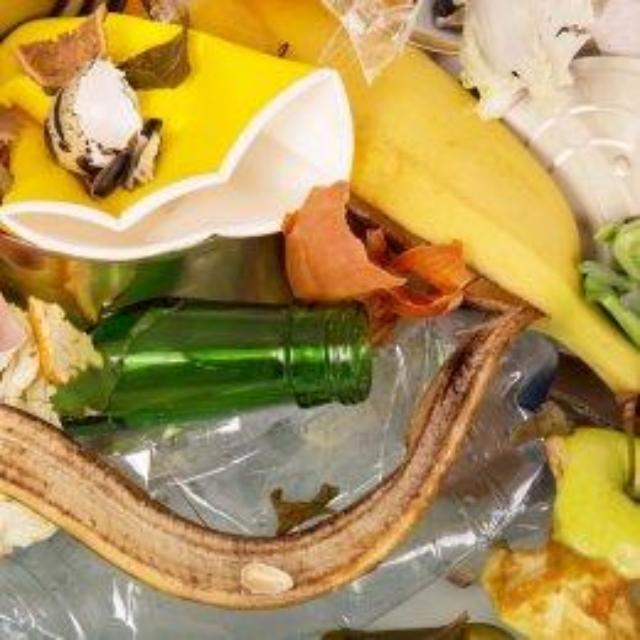Garbage: (0, 0, 640, 637)
contaminated_waste: (0, 324, 559, 640), (141, 308, 491, 533), (53, 295, 371, 434)
